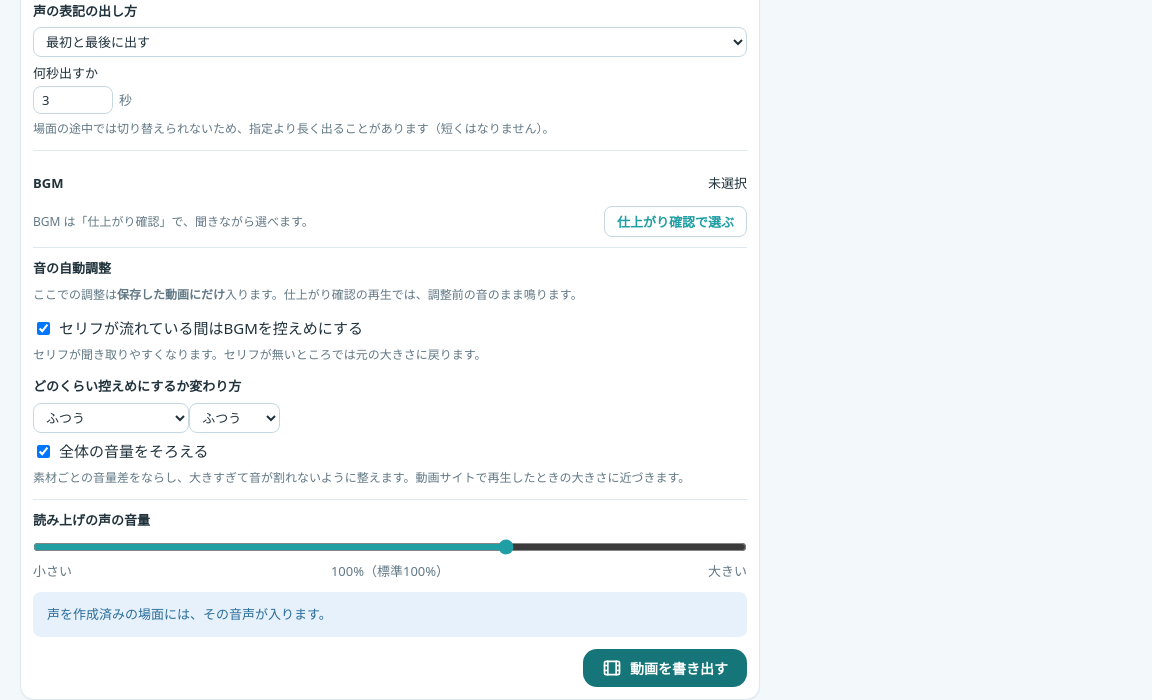
ExportScreen 取り込み中は書き出しを始めない（#570 P1・相互排他） › 見た目パターンの変更中（isTemplateMutating）は書き出しを始めない（#570 P1 レビュー・テンプレ保存/削除の非同期境界）
(page scrolled)
Click the button "動画を書き出す" at (665, 668), box [583, 649, 747, 687]
(page scrolled)
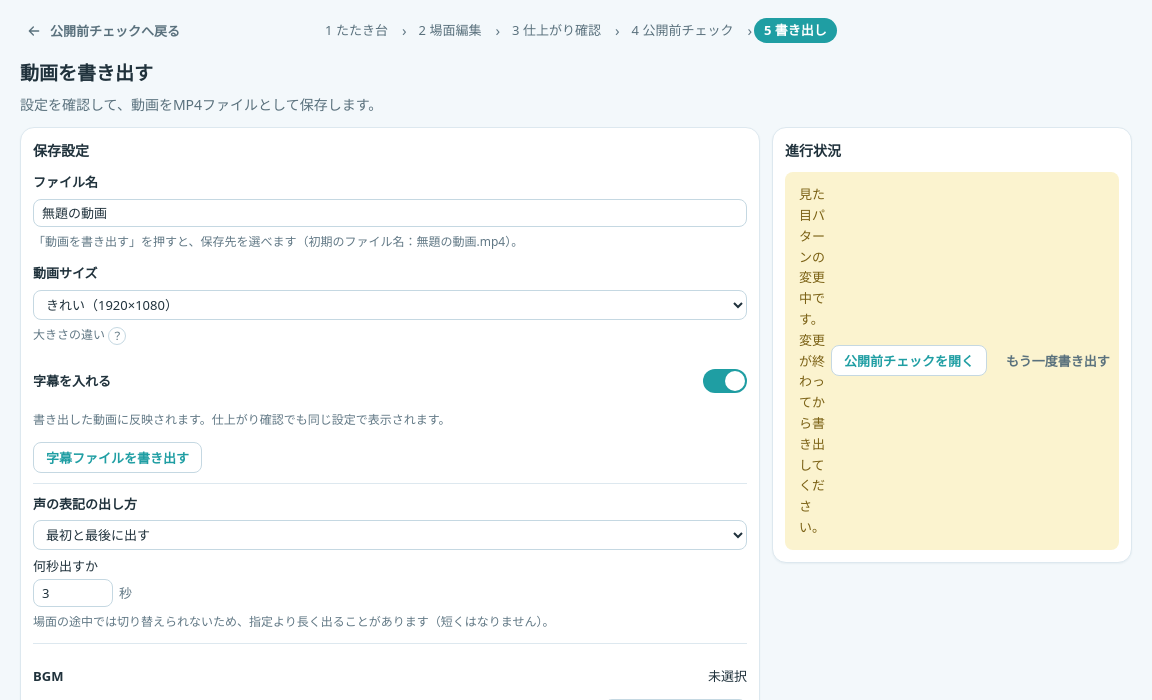
Now the text "見た目パターンの変更中です。変更が終わってから書き出してください。" is shown, box [799, 184, 825, 538]
